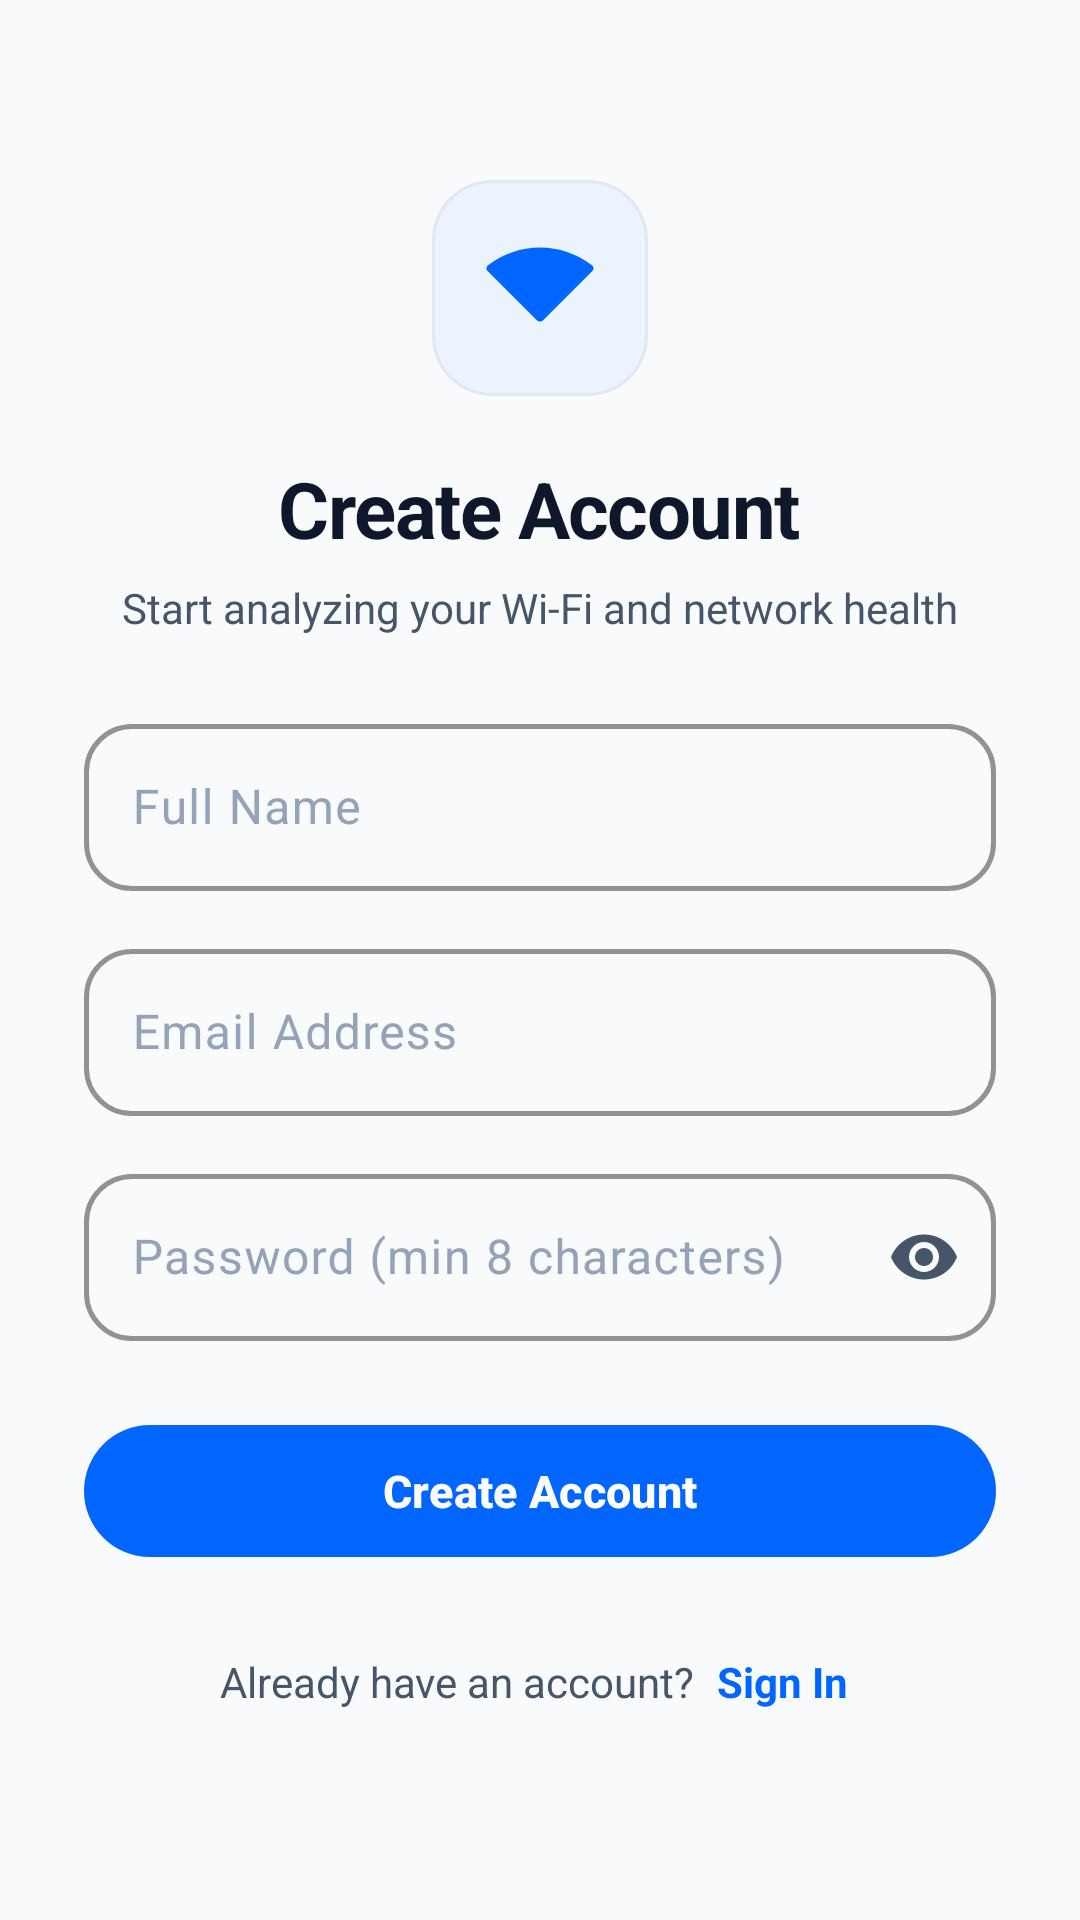

Icon bounding boxes for this 1080w x 1920h phone screenshot, format BBox(x1, y1, x2, y2):
wifi: BBox(486, 247, 594, 322)
